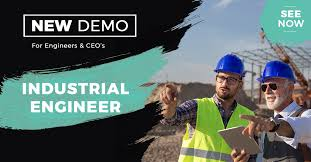Person_wearing_helmet: (257, 55, 296, 91), (211, 52, 243, 80)
